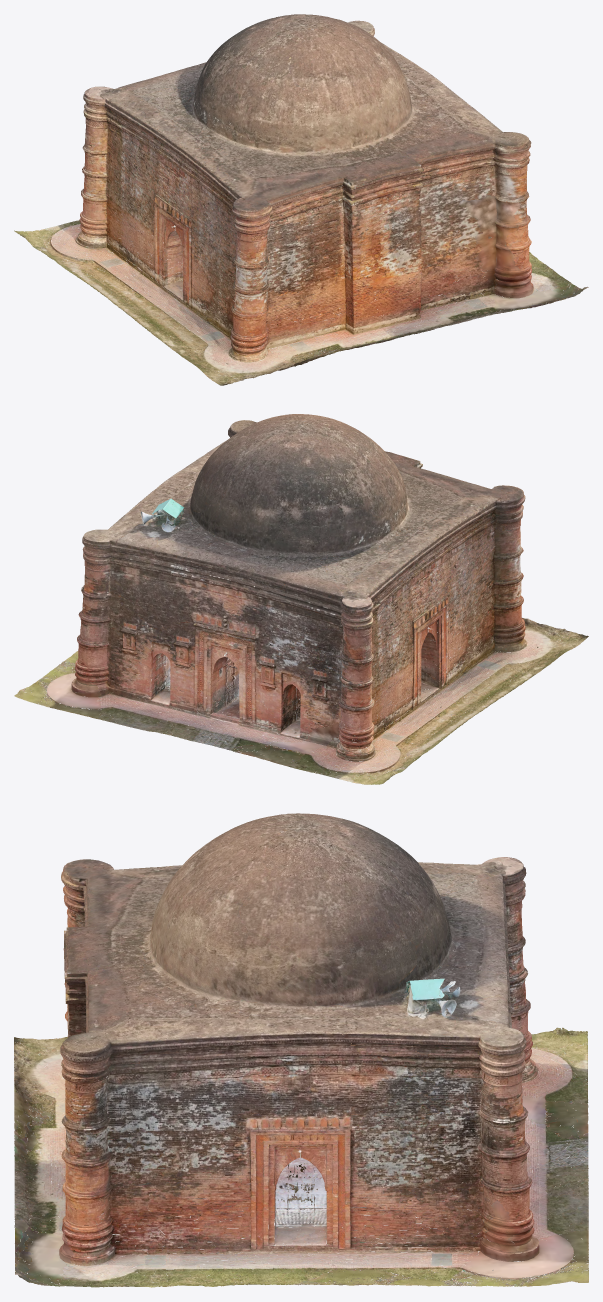
Rendered from preview.glb.
3 views of the same model, one above another, from view 1: azimuth 30°, elevation 25°; view 2: azimuth 150°, elevation 25°; view 3: azimuth 270°, elevation 25° (orthographic). The views are drawn at different scales.
Parts seen in each view (by area): view 1: Object_10, Object_6, Object_14, Object_2; view 2: Object_2, Object_6, Object_14, Object_10; view 3: Object_14, Object_10, Object_6, Object_2.
Boxes of the visible parts, left/top/right/bottom form: Object_10: left=14, top=28, right=588, bottom=385; Object_6: left=25, top=20, right=581, bottom=384; Object_14: left=38, top=16, right=574, bottom=383; Object_2: left=40, top=14, right=578, bottom=372; Object_2: left=14, top=415, right=560, bottom=778; Object_6: left=31, top=414, right=585, bottom=784; Object_14: left=25, top=421, right=581, bottom=783; Object_10: left=20, top=418, right=588, bottom=784; Object_14: left=14, top=813, right=588, bottom=1287; Object_10: left=14, top=834, right=588, bottom=1287; Object_6: left=14, top=814, right=588, bottom=1286; Object_2: left=14, top=813, right=588, bottom=1286.
Bounding box in the file's own units: 17.22 × 10.87 × 16.76.
4 materials, 4 textured.
